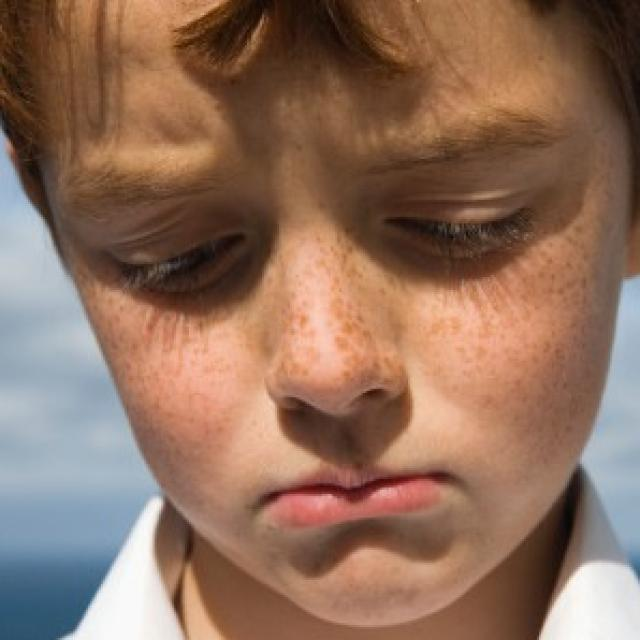Depress: (35, 2, 629, 634)
